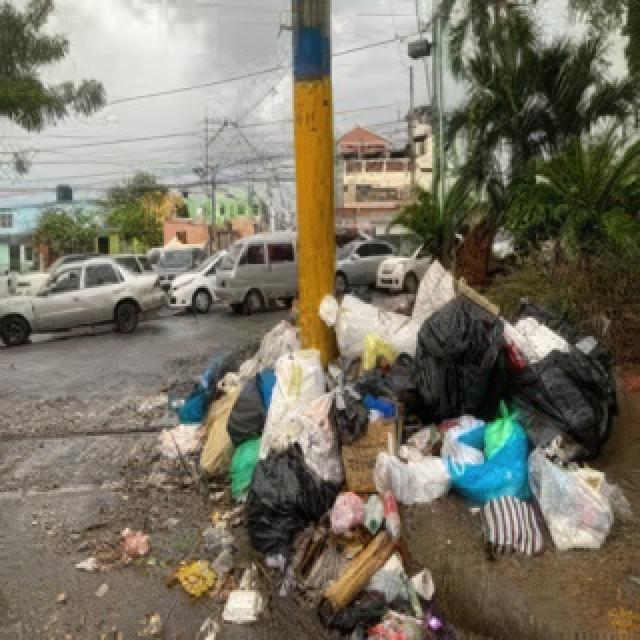Trashbag: (394, 304, 506, 411), (516, 353, 611, 454), (260, 450, 308, 552)
